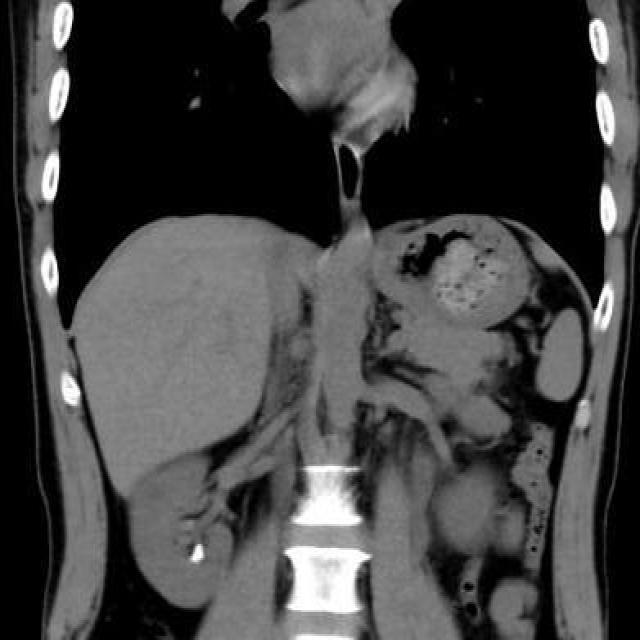Tas_Var: (191, 551, 205, 563), (195, 541, 203, 551)
